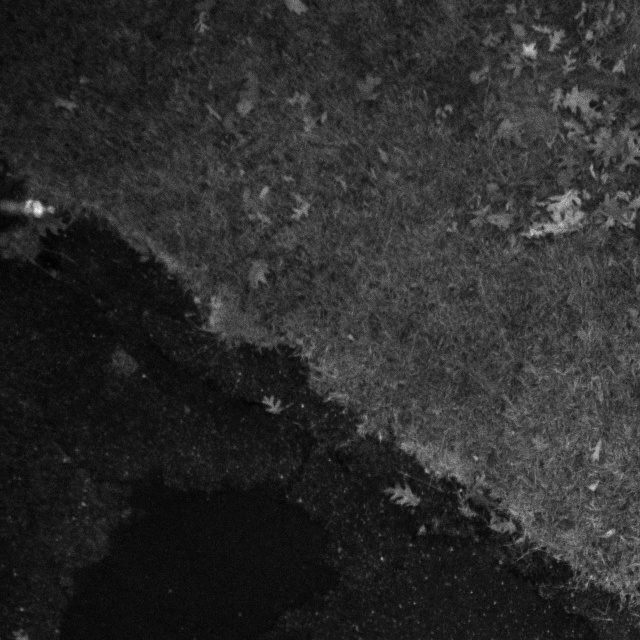bottle: (1, 189, 62, 227)
